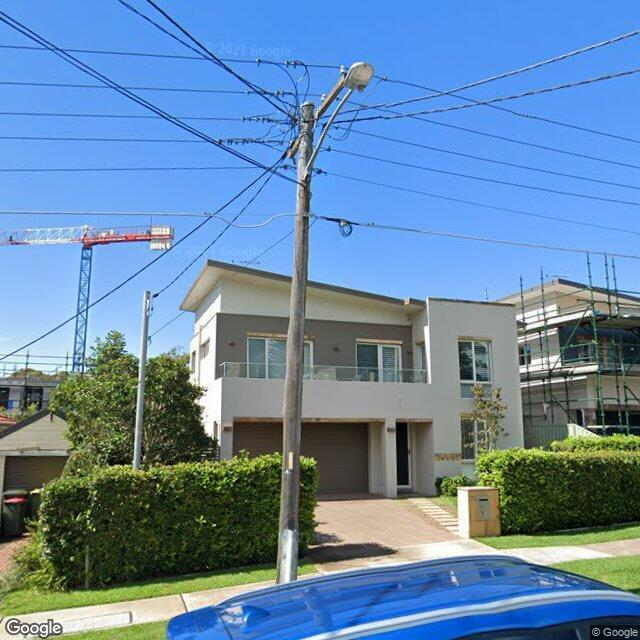crossarm: (286, 72, 346, 159)
steel-pole: (133, 290, 152, 466)
streetlight: (304, 60, 374, 178)
timber-pole: (277, 102, 316, 583)
